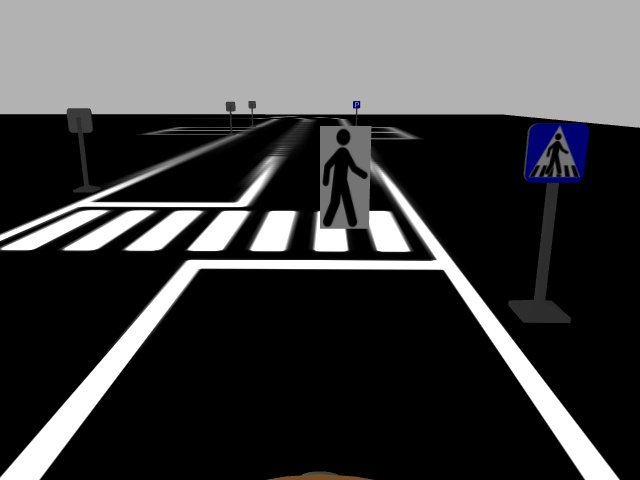crosswalk: (521, 123, 589, 184)
parking: (351, 100, 362, 110)
pedestrian: (317, 123, 373, 231)
